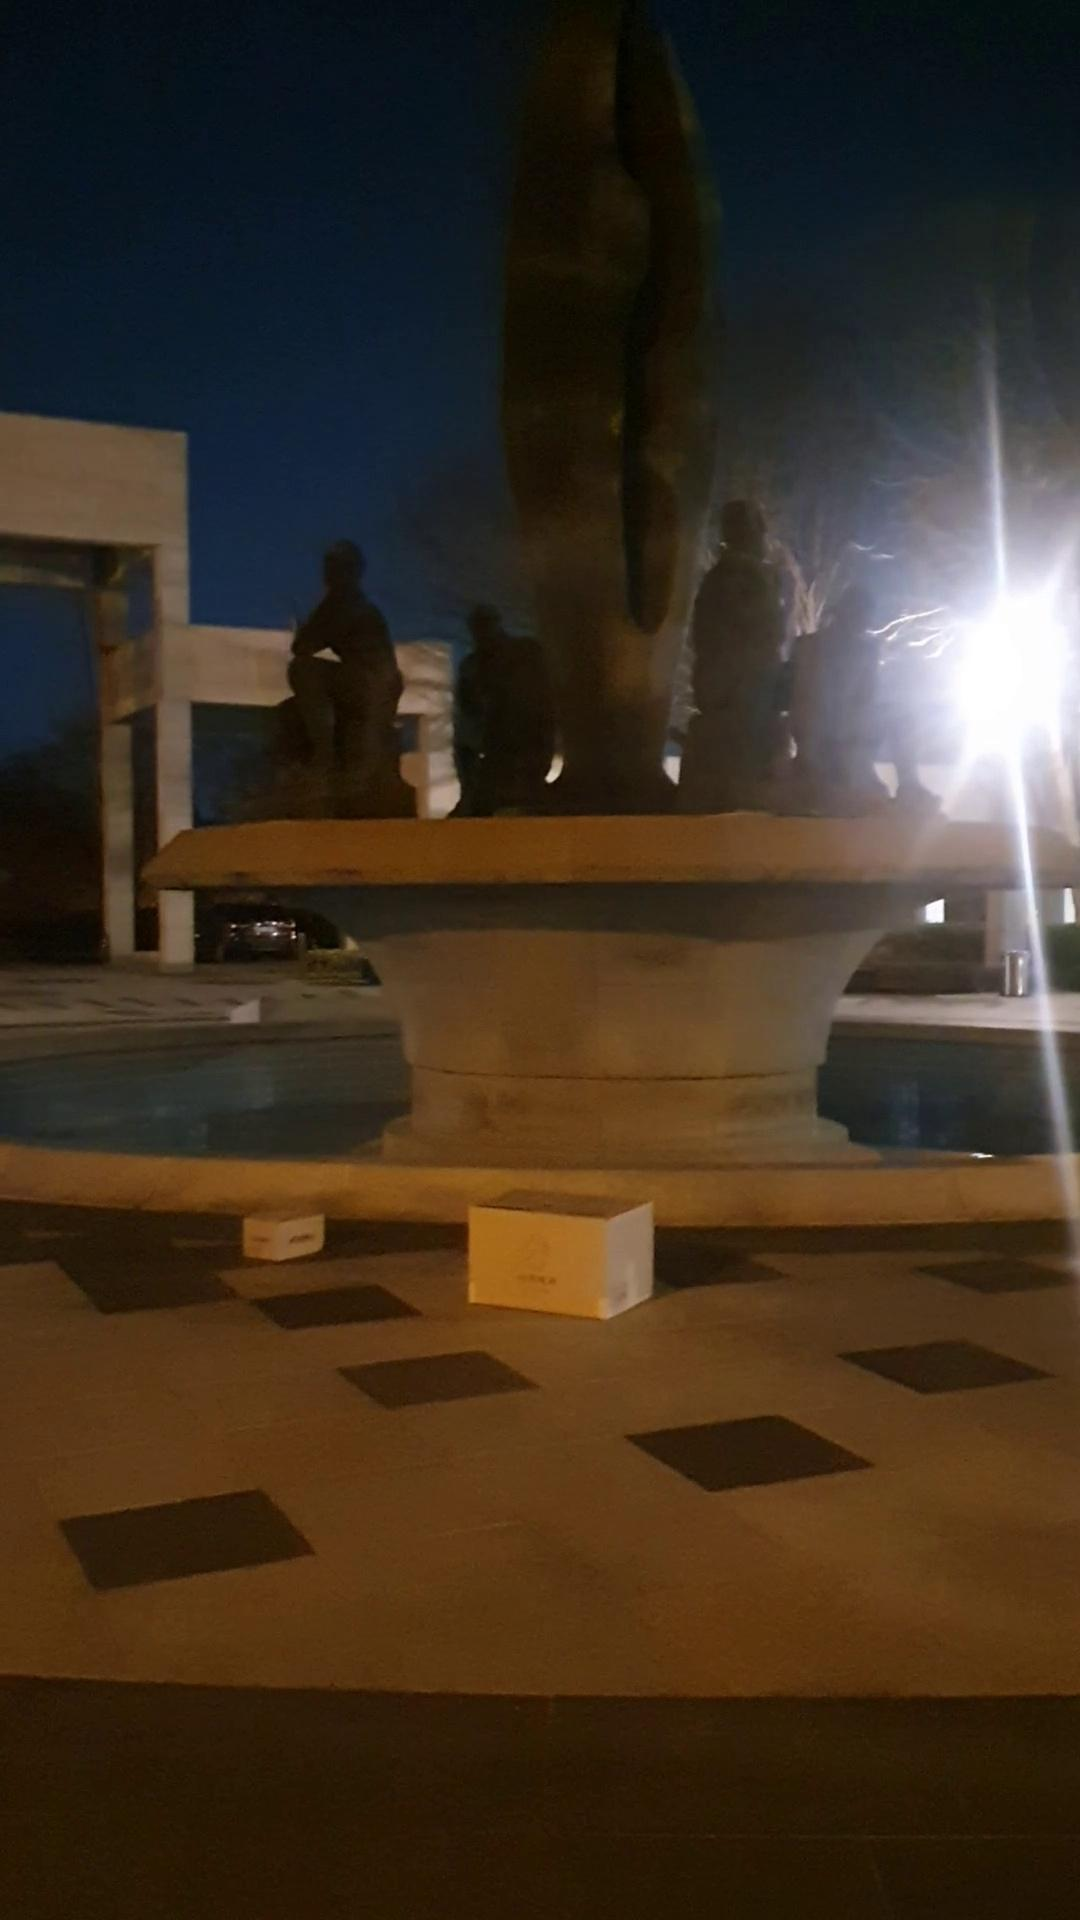Box: (451, 1185, 659, 1327), (233, 1178, 335, 1278)
